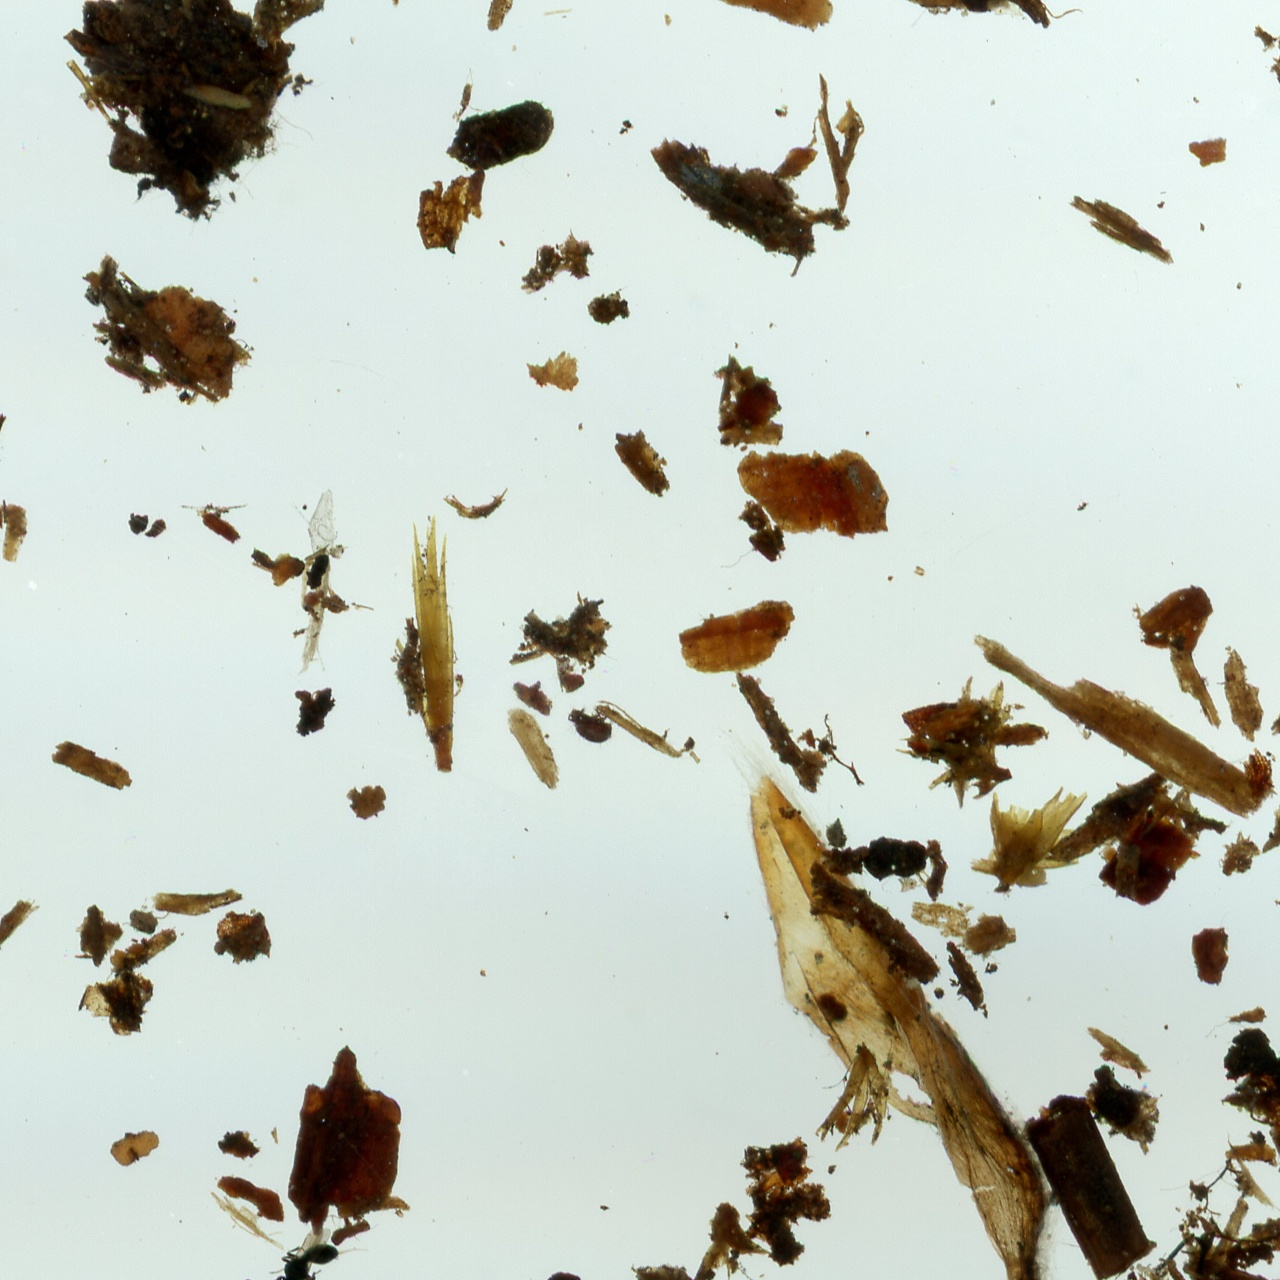arthropod: (240, 1220, 343, 1280), (559, 697, 624, 753)
